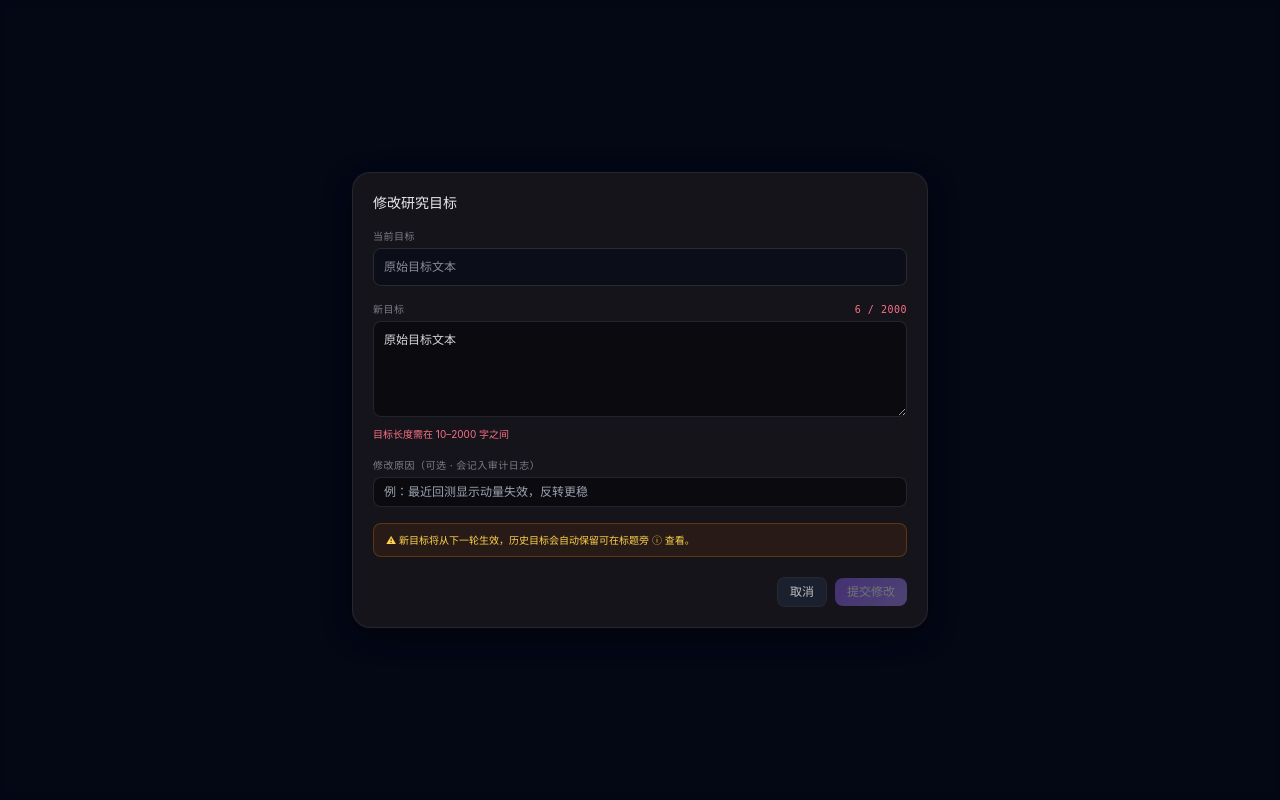
Test case: EditObjectiveDialog › submit is disabled until the text changes
Expected: the button "提交修改" is disabled, [835,578,907,606]
Step 1. Replace the text in the text box with placeholder "例：低估值反转因子选股 + 限制 top_n ≤ 30" with "新的研究方向，反转因子选股" → (640, 369), box [373,321,907,417]
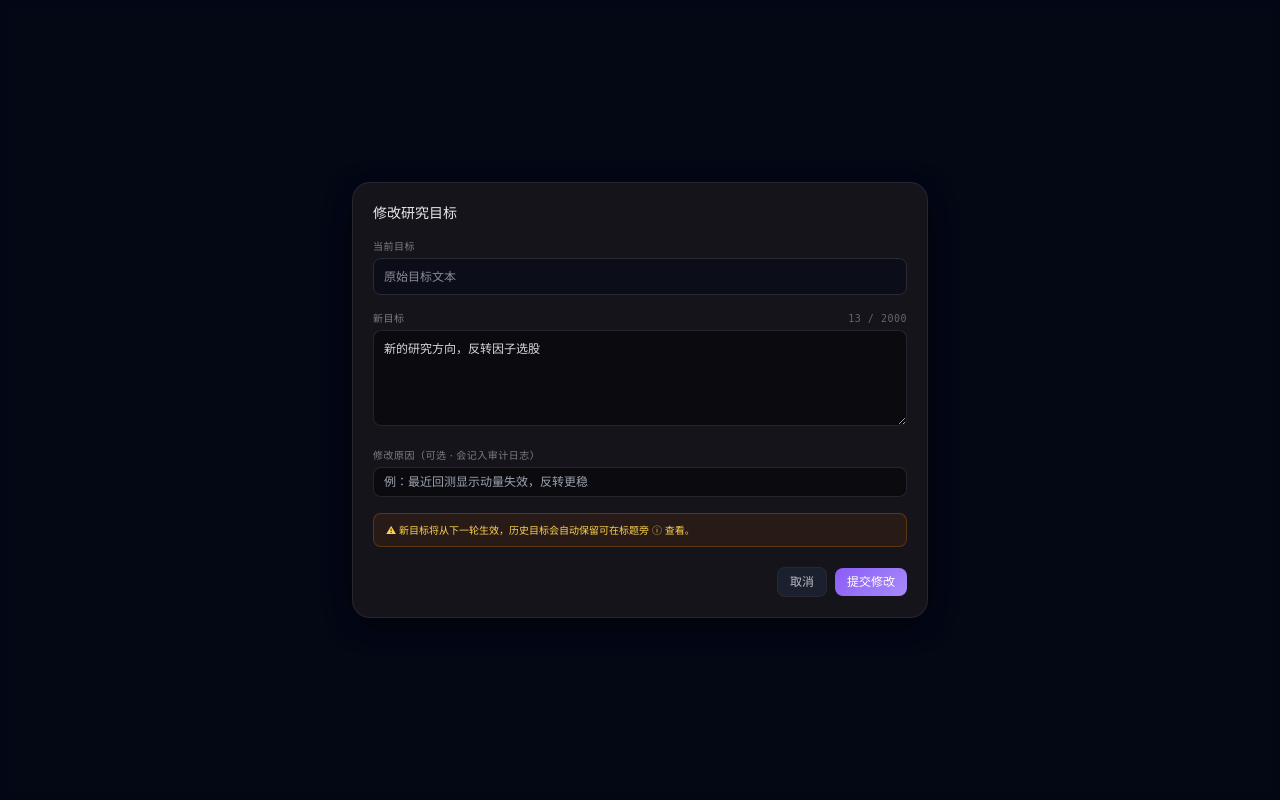
Now the button "提交修改" is enabled, box [835,568,907,596]
